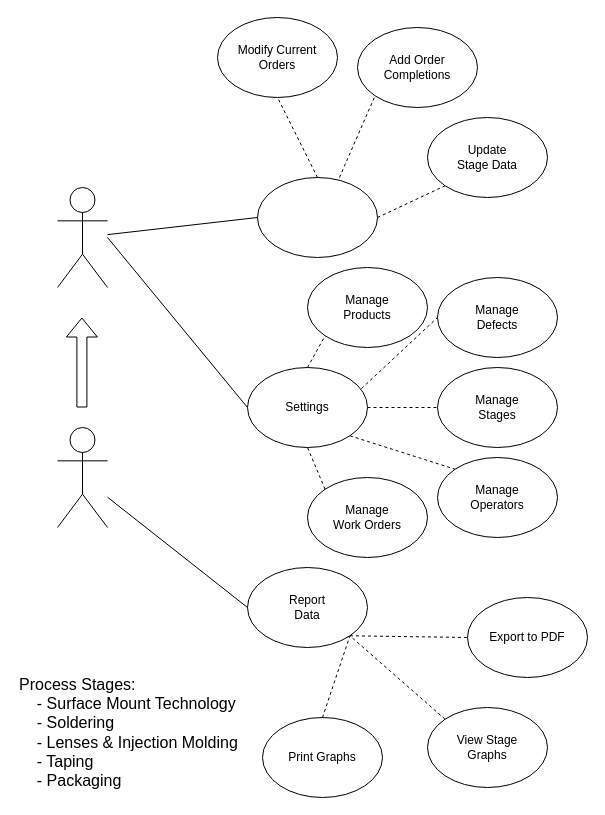
Some shapes in this 605 by 815 pixel diagram are drawn without their labels. The shapes that lost their labels are listed below. From the top down, each one's centre as x and y in pixels, then its label:
(82,237): Stage Leads
(317,217): View Work Orders
(82,477): Senior Engineer
